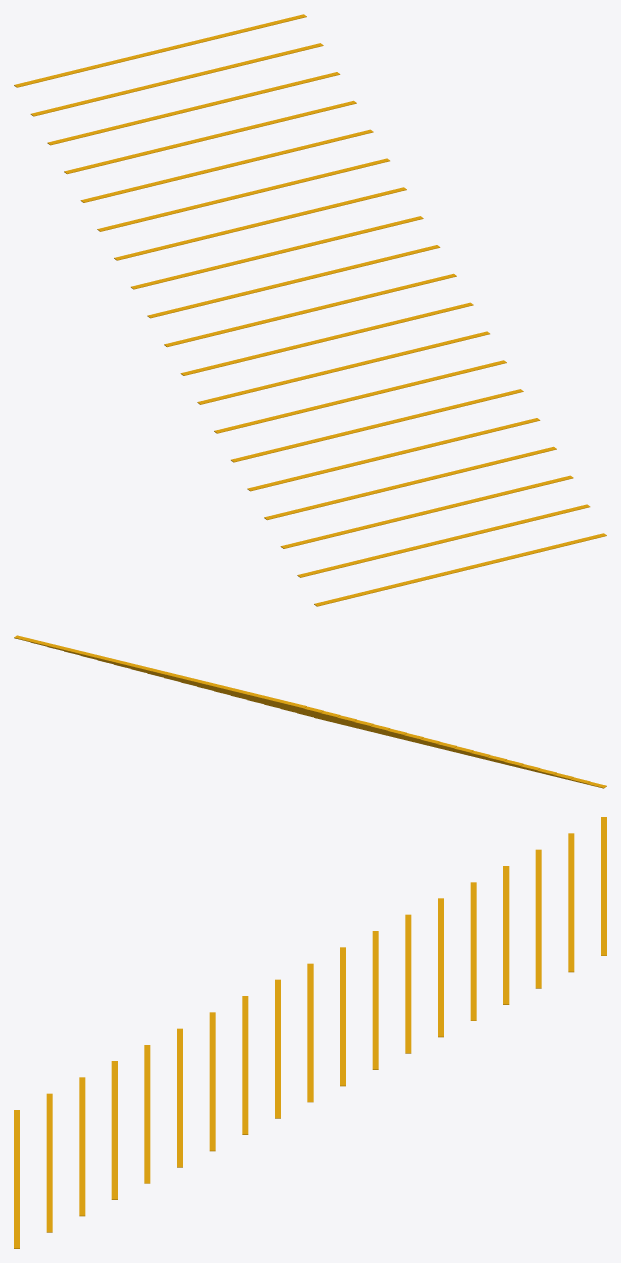
The model's file is gteki_ik_stair_n19_r164_t298_w3008_nosing.glb.
3 renders of one model, top to bottom at view 1: azimuth 30°, elevation 25°; view 2: azimuth 150°, elevation 25°; view 3: azimuth 270°, elevation 25°, orthographic. The views are drawn at different scales.
Parts seen in each view (by area): view 1: VIS_body; view 2: VIS_body; view 3: VIS_body.
Part boxes in pixels (x1,y1,x2,y2): VIS_body: (14, 14, 606, 606); VIS_body: (14, 635, 606, 788); VIS_body: (14, 817, 606, 1248).
Size of the model in its own units: 2.99 by 2.96 by 5.42.
Materials: 1 (1 with a texture image).
